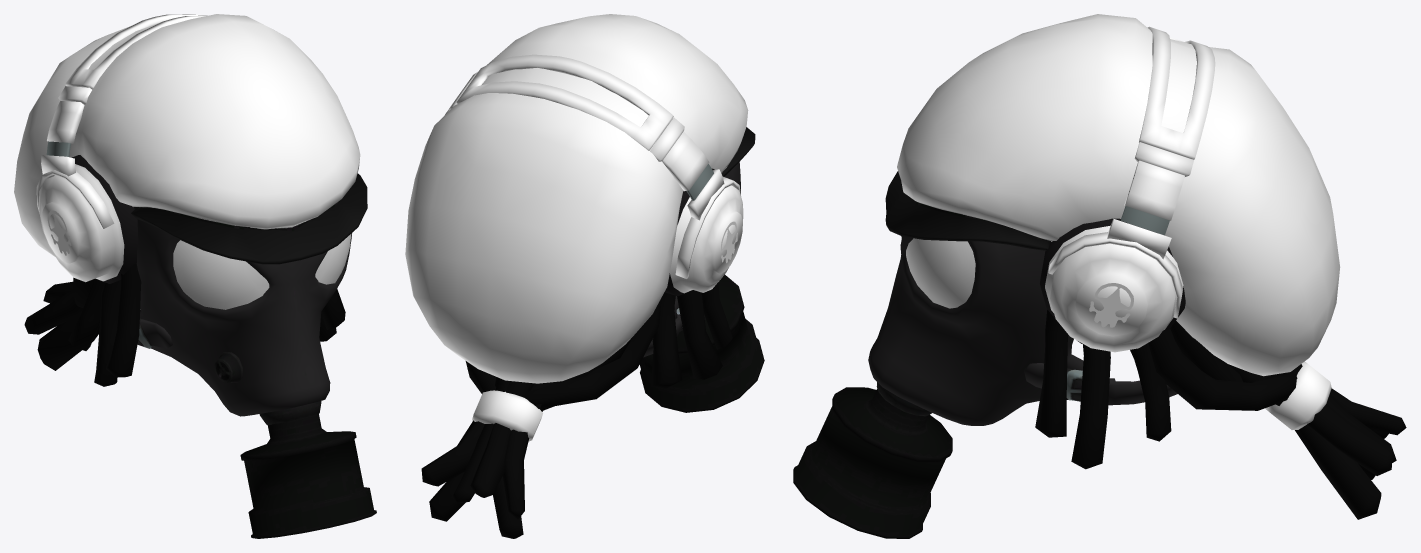
File: SurvivorMale_Head_Mask_Rasta_LOD0.glb
3 views of the same model, side by side, from view 1: azimuth 30°, elevation 25°; view 2: azimuth 150°, elevation 25°; view 3: azimuth 270°, elevation 25° (orthographic). The views are drawn at different scales.
Visible parts, largest first — view 1: Hoodie; view 2: Hoodie; view 3: Hoodie.
Part boxes in pixels (x1,y1,x2,y2): Hoodie: [14, 14, 376, 538]; Hoodie: [405, 14, 764, 538]; Hoodie: [793, 14, 1406, 538].
Bounding box in the file's own units: 0.2437 × 0.3585 × 0.4036.
1 material, 1 textured.
